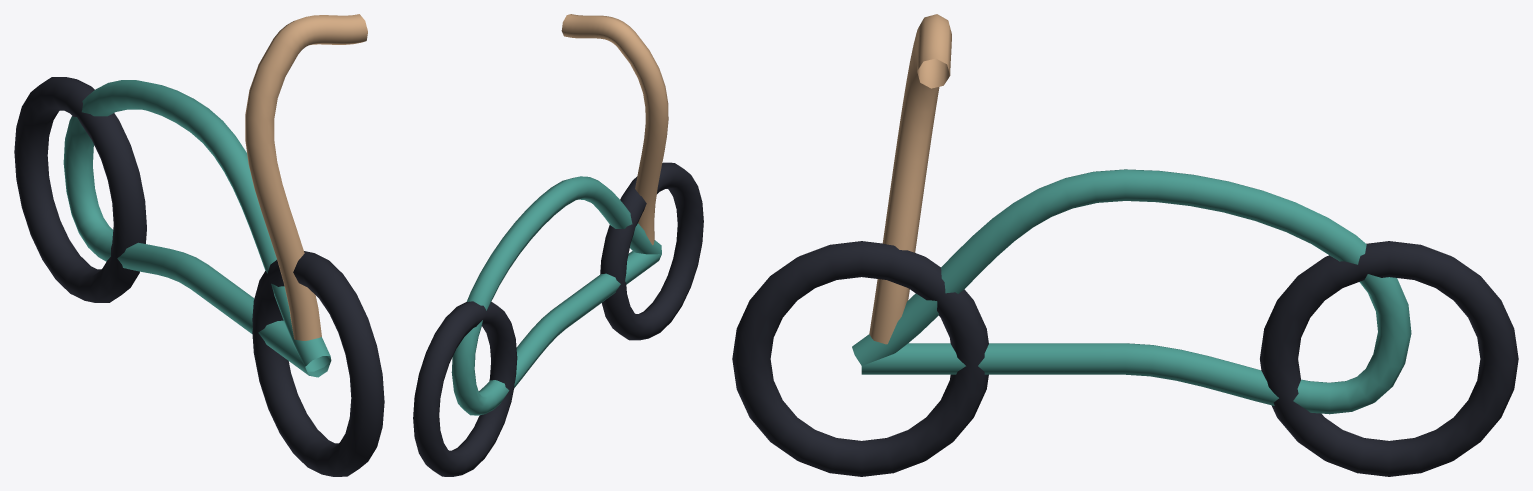
Rendered from word-scooter.glb.
3 renders of one model, left to right at view 1: azimuth 30°, elevation 25°; view 2: azimuth 150°, elevation 25°; view 3: azimuth 270°, elevation 25°, orthographic. The views are drawn at different scales.
Visible parts, largest first — view 1: frame, wheel.001, wheel, handlebar; view 2: frame, wheel.001, wheel, handlebar; view 3: frame, wheel, wheel.001, handlebar.
Boxes of the visible parts, x1,y1,x2,y2 form: frame: (63,80,331,377); wheel.001: (14,77,146,302); wheel: (252,251,384,476); handlebar: (245,14,367,340); frame: (451,176,661,415); wheel.001: (413,301,517,476); wheel: (600,162,703,340); handlebar: (561,14,668,245); frame: (852,169,1411,414); wheel: (732,241,988,476); wheel.001: (1260,241,1518,476); handlebar: (869,14,951,344).
Bounding box in the file's own units: 0.3218 × 1.08 × 1.64.
